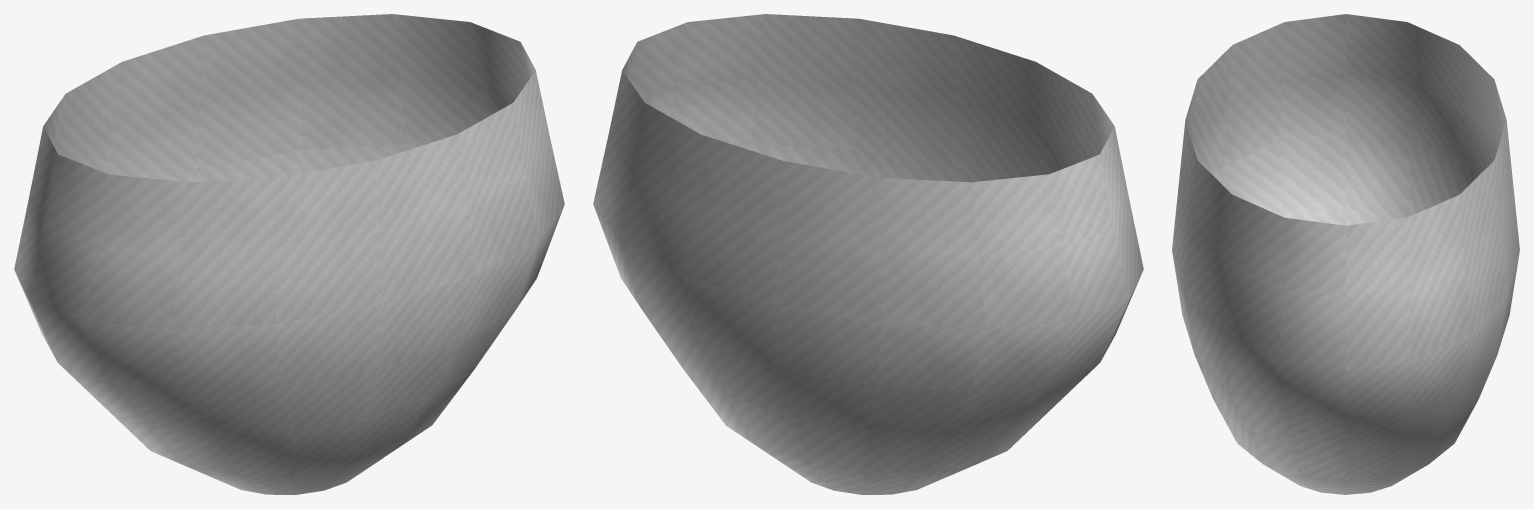
The model's file is pants_shorts_hips_m.glb.
3 views of the same model, side by side, from view 1: azimuth 30°, elevation 25°; view 2: azimuth 150°, elevation 25°; view 3: azimuth 270°, elevation 25° (orthographic). The views are drawn at different scales.
Parts seen in each view (by area): view 1: pants_shorts_hips_m; view 2: pants_shorts_hips_m; view 3: pants_shorts_hips_m.
Boxes of the visible parts, x1,y1,x2,y2 form: pants_shorts_hips_m: (14, 14, 564, 494); pants_shorts_hips_m: (593, 14, 1143, 494); pants_shorts_hips_m: (1172, 14, 1519, 494).
Size of the model in its own units: 0.392 by 0.265 by 0.2424.
Materials: 1 (1 with a texture image).
